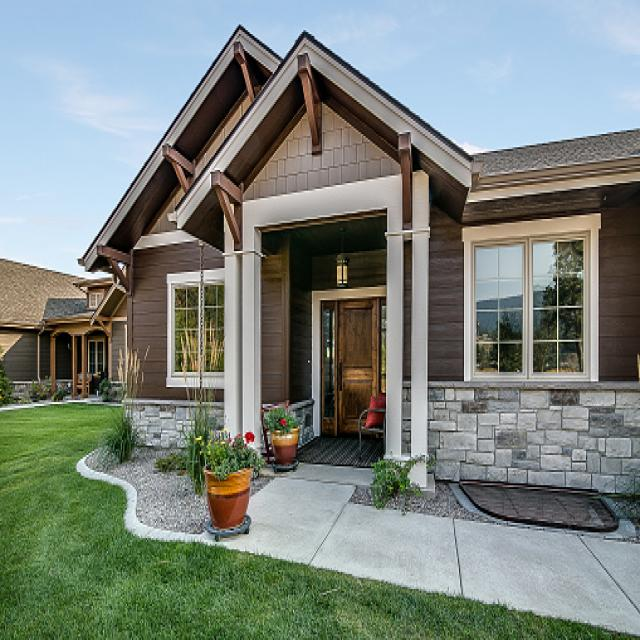Normal_building: (75, 18, 640, 503)
